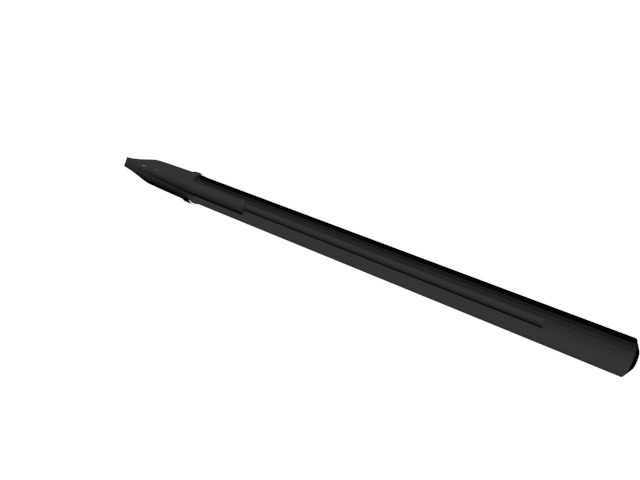pen: (121, 153, 640, 384)
